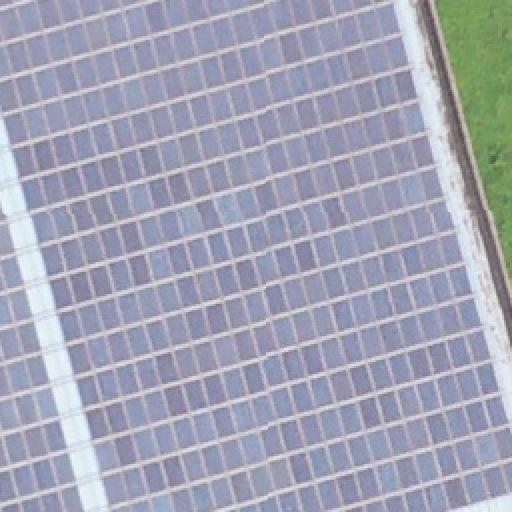solar-panel: (0, 0, 512, 512), (1, 198, 87, 512)
